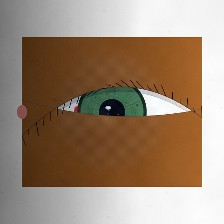hemorrhage_spot: (63, 82, 141, 144)
